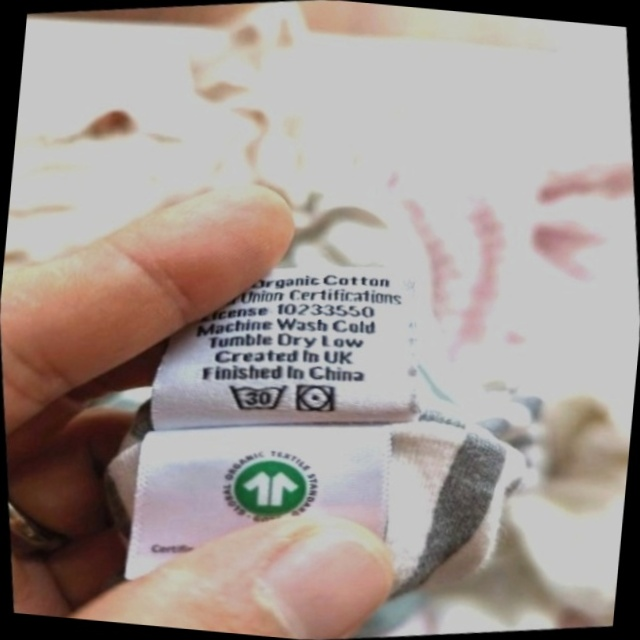30C: (220, 372, 294, 422)
tumble_dry_low: (289, 376, 342, 422)
